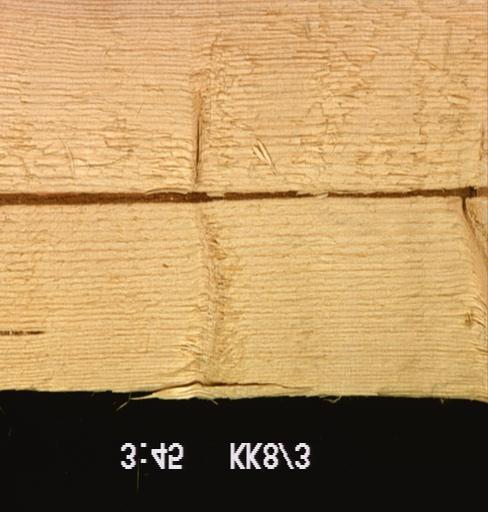split: (130, 377, 315, 400)
